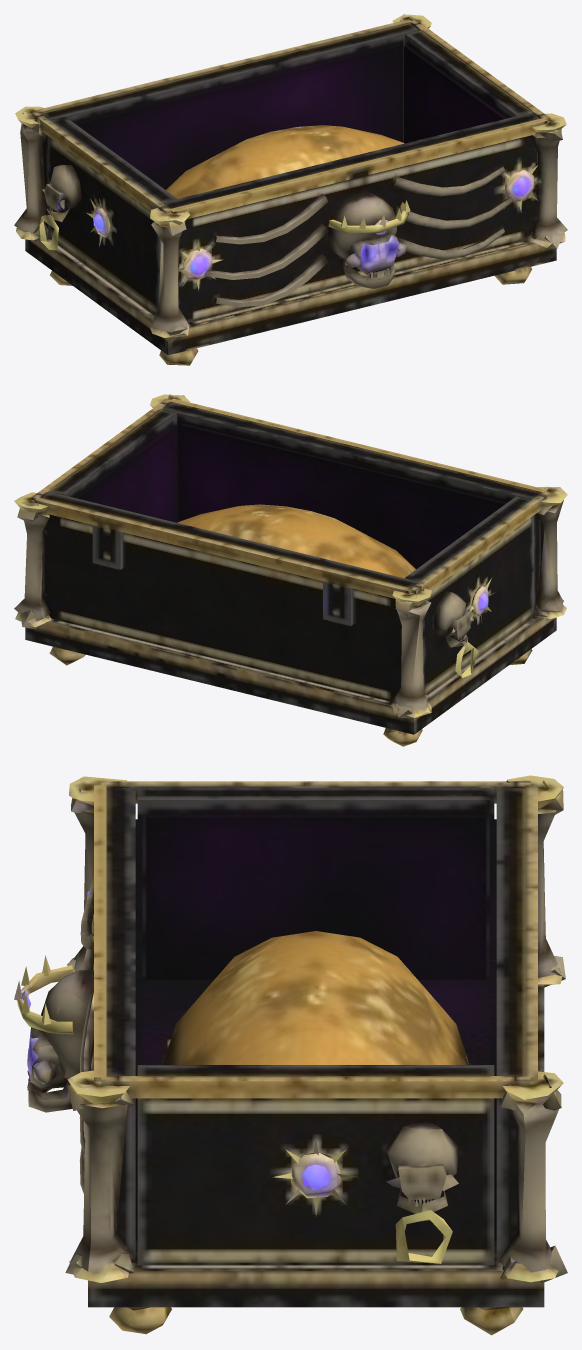
The model's file is chest_vault.glb.
The picture shows the model from 3 angles, top to bottom: view 1: azimuth 30°, elevation 25°; view 2: azimuth 150°, elevation 25°; view 3: azimuth 270°, elevation 25°; orthographic projection. The views are drawn at different scales.
Visible parts, largest first — view 1: chest_vault; view 2: chest_vault; view 3: chest_vault.
Boxes of the visible parts, <box> form: chest_vault: <box>14,14,567,365</box>; chest_vault: <box>14,394,567,746</box>; chest_vault: <box>14,775,567,1335</box>.
Size of the model in its own units: 1.47 by 0.5534 by 1.04.
1 material, 1 textured.
